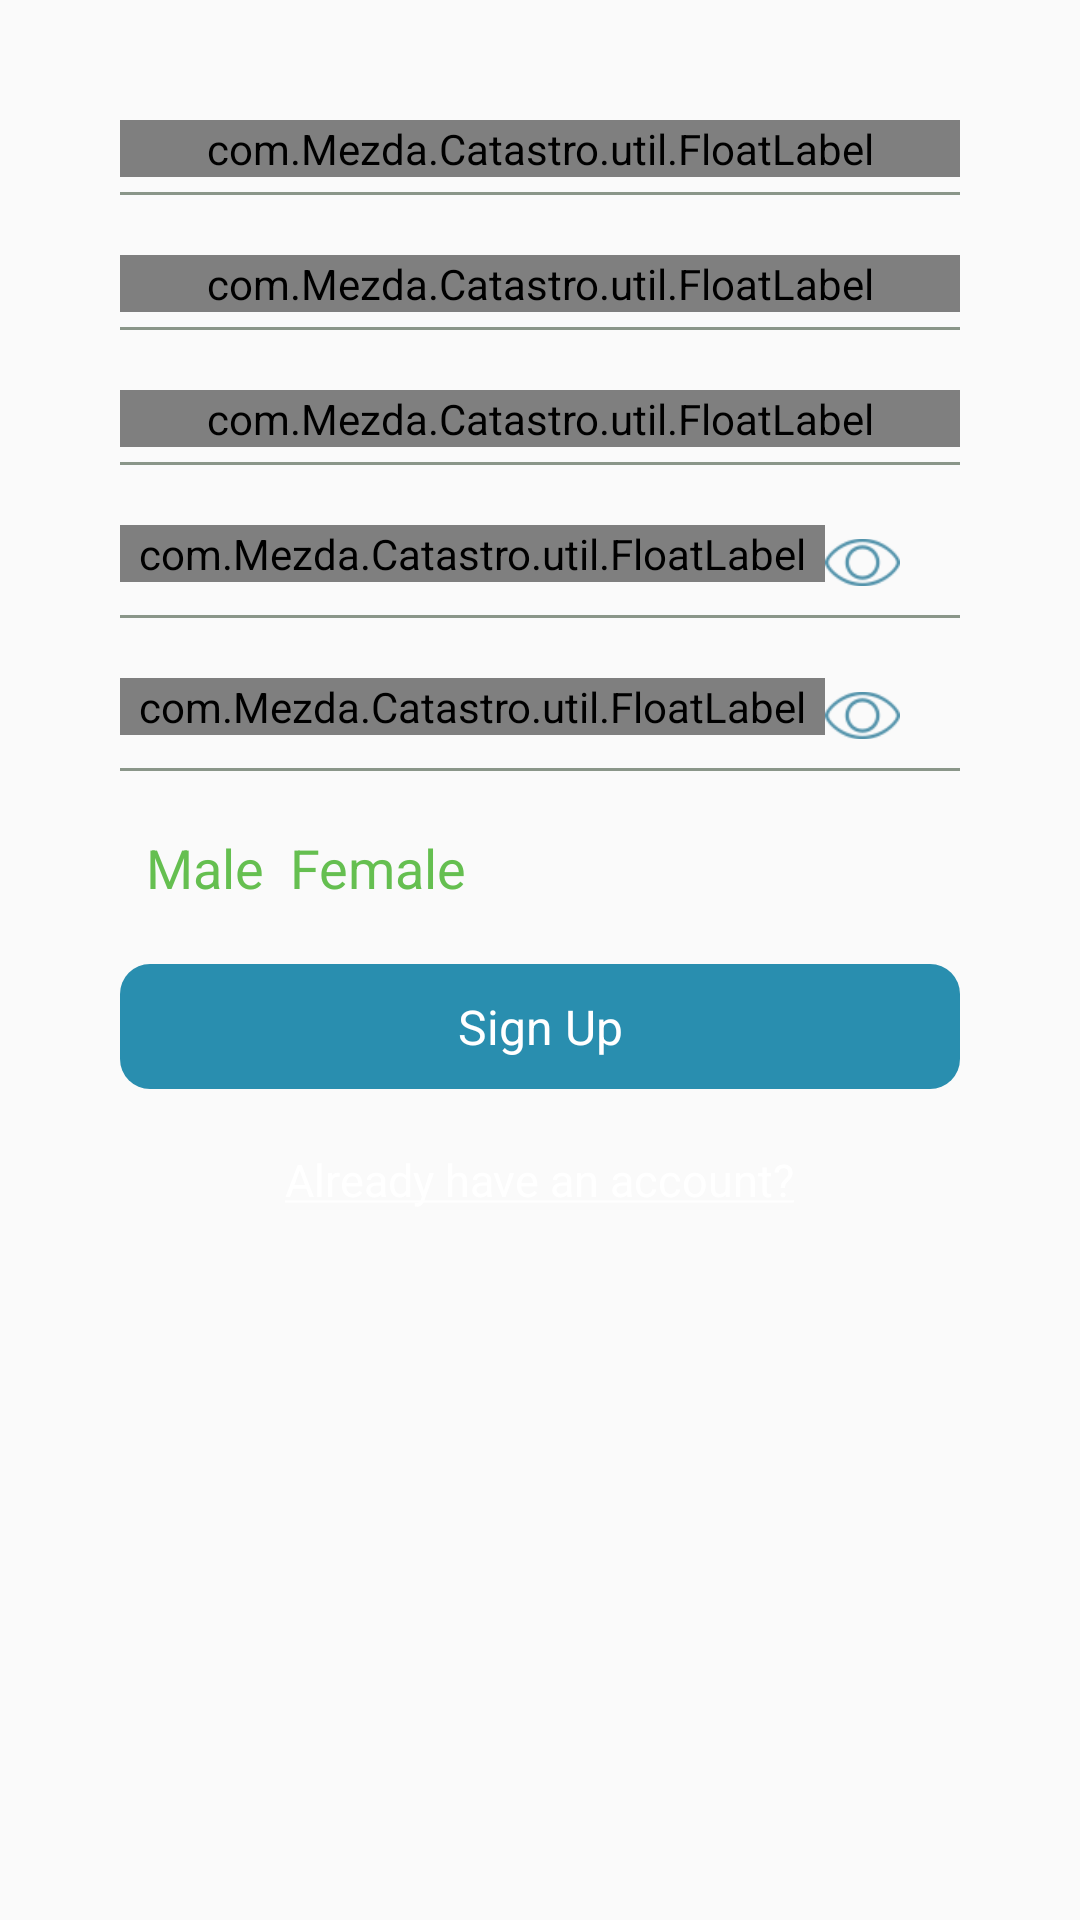

Where icons sit on this 1080×1920 app screen, as (x1, y1, x2, y2):
show password: (825, 539, 900, 586), (825, 692, 900, 739)
